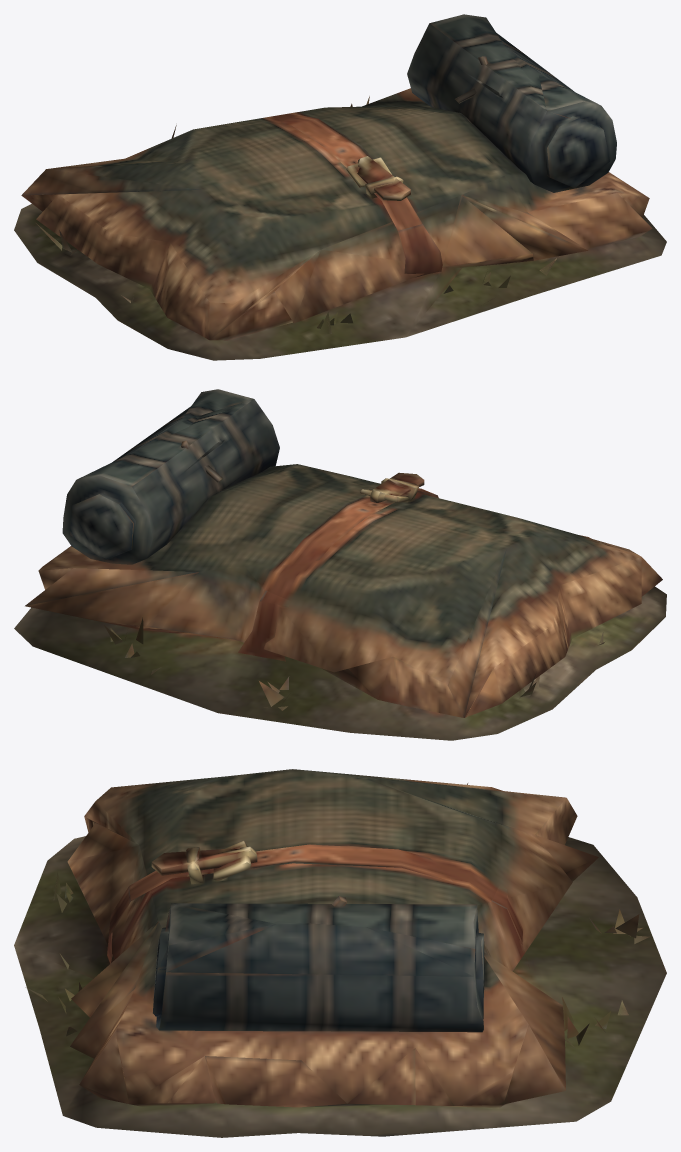
Rendered from prop_bedroll.glb.
The picture shows the model from 3 angles, top to bottom: view 1: azimuth 30°, elevation 25°; view 2: azimuth 150°, elevation 25°; view 3: azimuth 270°, elevation 25°; orthographic projection. The views are drawn at different scales.
Size of the model in its own units: 2 by 0.5193 by 1.74.
1 material, 1 textured.
